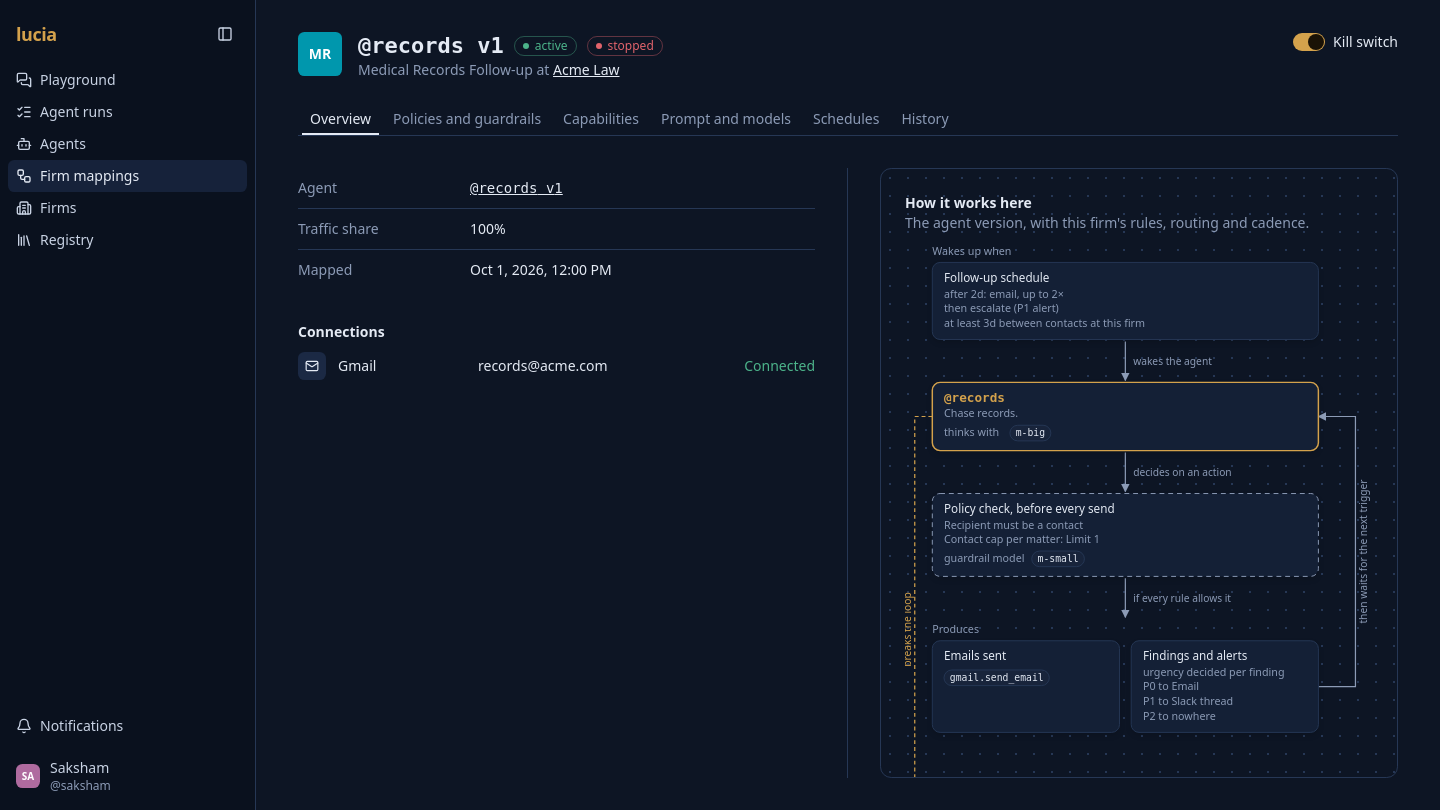
Test case: mapping detail › cancelling the kill switch sends nothing
Click the switch named "Kill switch" at [1309, 42], box [1293,33,1325,51]
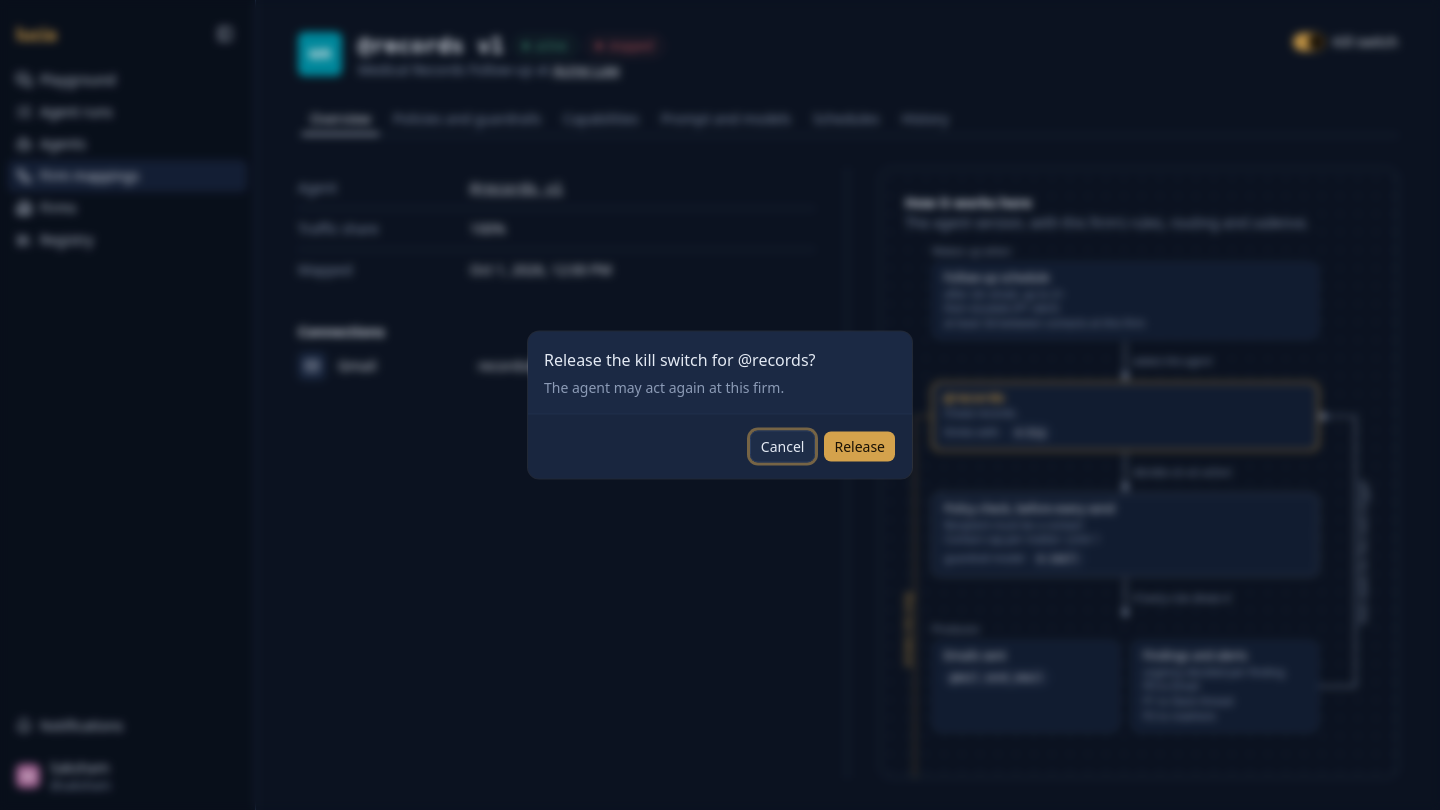
Click the button "Cancel" at [783, 446], box [750,430,815,462]
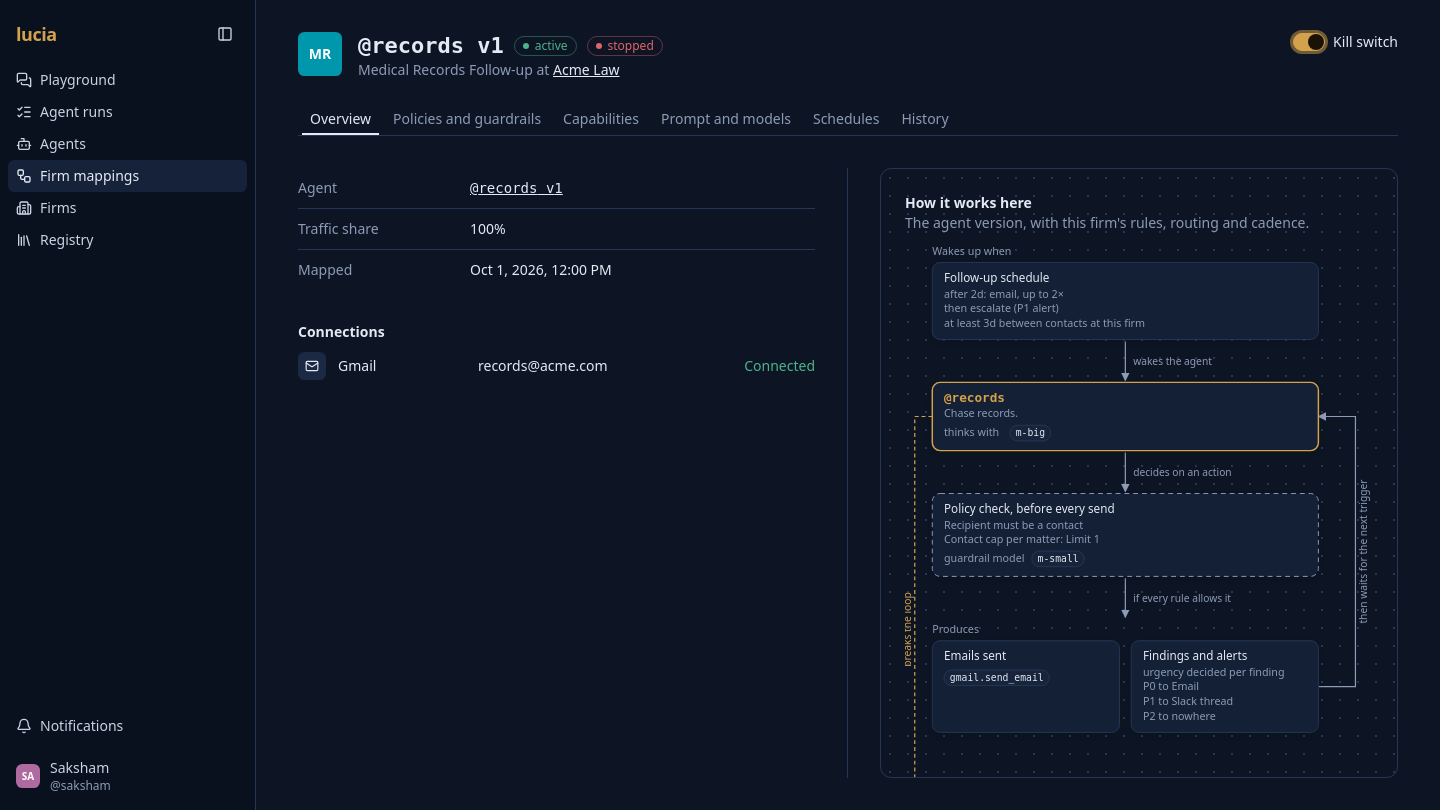
Result: the dialog is gone
